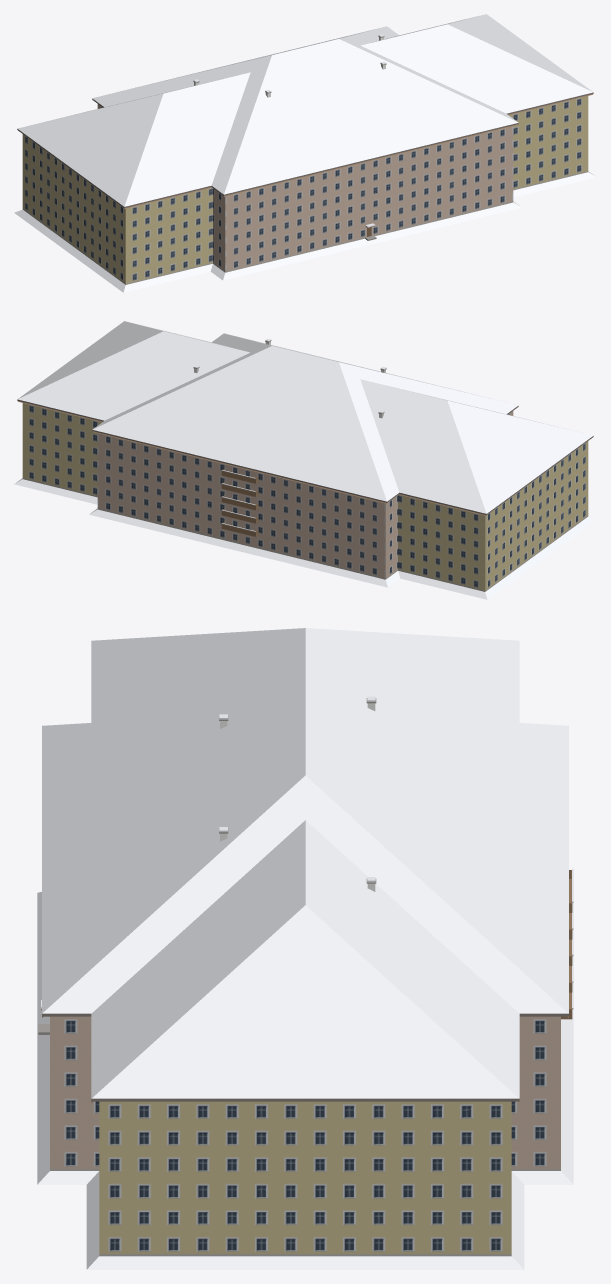
The model's file is town.glb.
The picture shows the model from 3 angles, top to bottom: view 1: azimuth 30°, elevation 25°; view 2: azimuth 150°, elevation 25°; view 3: azimuth 270°, elevation 25°; orthographic projection. The views are drawn at different scales.
Parts seen in each view (by area): view 1: bld_265, bld_239; view 2: bld_265, bld_239; view 3: bld_239, bld_265.
Part boxes in pixels (x1=…): bld_265: x1=92, y1=26, x2=521, y2=280; bld_239: x1=14, y1=14, x2=596, y2=292; bld_265: x1=89, y1=333, x2=518, y2=587; bld_239: x1=14, y1=321, x2=596, y2=599; bld_239: x1=86, y1=628, x2=524, y2=1269; bld_265: x1=37, y1=710, x2=573, y2=1184.
Bounding box in the file's own units: 112 × 33.42 × 54.9.
17 materials, 7 textured.
